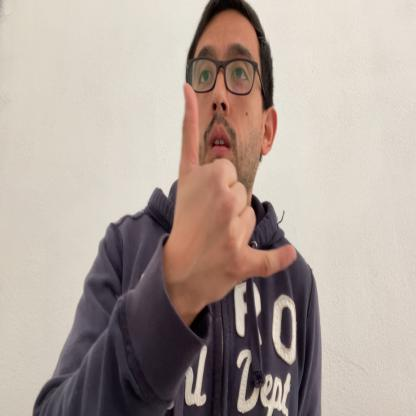Y: (175, 82, 297, 306)
